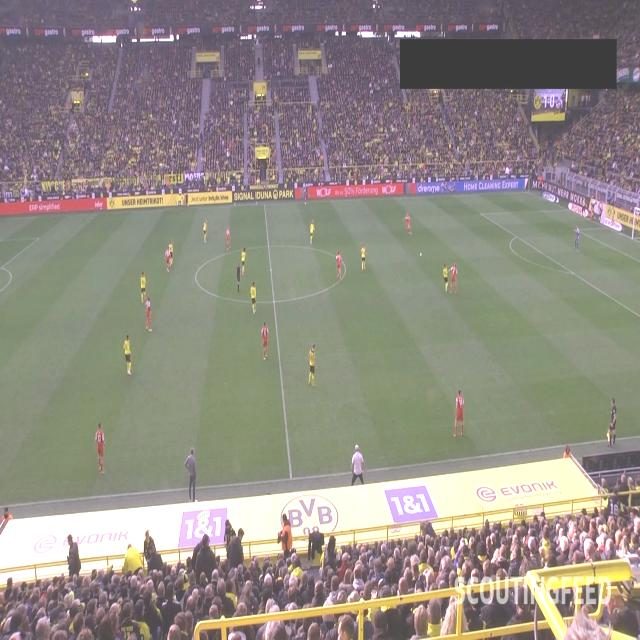ball: (419, 252, 422, 258)
f_player: (94, 422, 106, 476), (453, 388, 465, 439), (122, 334, 134, 378), (307, 342, 318, 388), (260, 322, 270, 362), (449, 261, 458, 295), (145, 295, 153, 333), (249, 280, 257, 314), (139, 270, 147, 304), (402, 210, 412, 237), (335, 250, 343, 282), (360, 242, 368, 272), (572, 224, 580, 253), (308, 220, 316, 248), (442, 262, 449, 294), (164, 246, 172, 273), (240, 248, 247, 276), (168, 240, 174, 268), (202, 218, 208, 244), (225, 226, 231, 252), (303, 187, 307, 206)
umpire: (608, 396, 618, 448), (236, 262, 241, 294)
